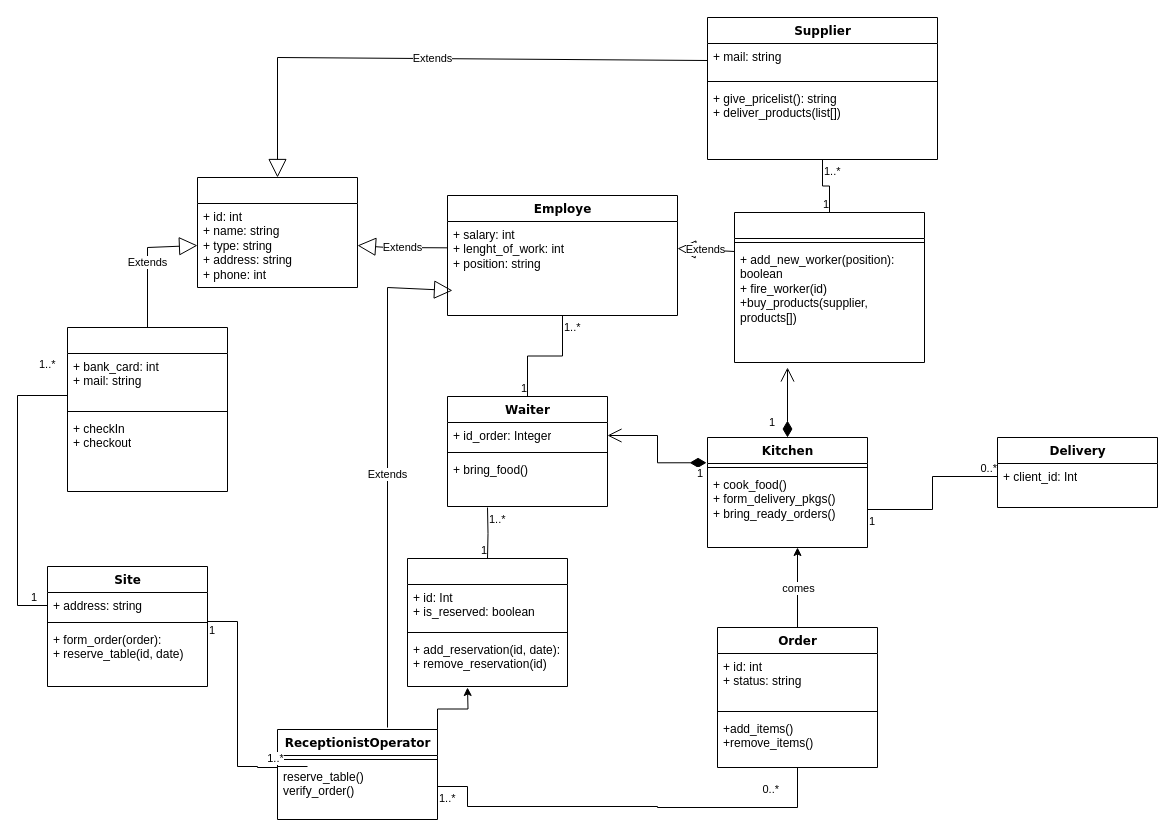
The diagram is 1175 pixels wide and 837 high, and some of its shapes have lost their labels. The shapes that lost their labels are listed below. From the top down, each one's box as (x1, y1, x2, y2) in pixels, then its label:
(196, 176, 358, 288): Person
(734, 212, 924, 362): Chef
(66, 326, 228, 492): Customer
(406, 558, 568, 686): Tables
